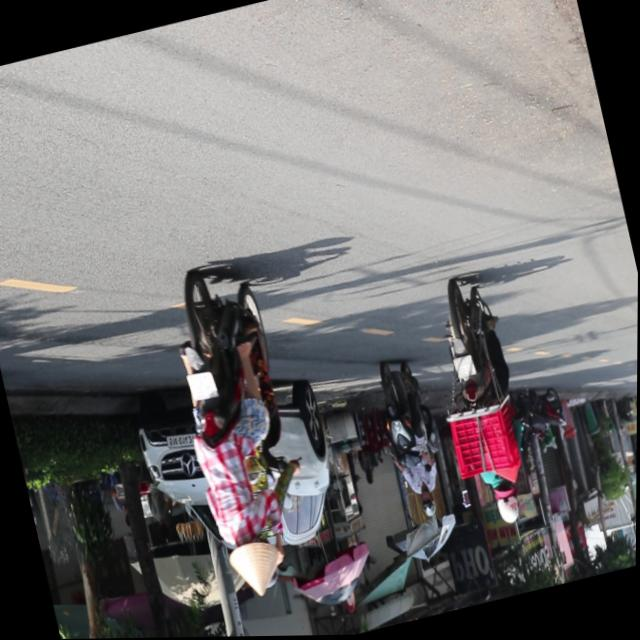helmet: (491, 483, 524, 529)
licenseplate: (152, 259, 329, 615), (418, 273, 547, 539), (369, 355, 452, 526)
motorcyclist: (225, 529, 291, 605)
nohelmet: (187, 371, 218, 403), (452, 355, 477, 383)
